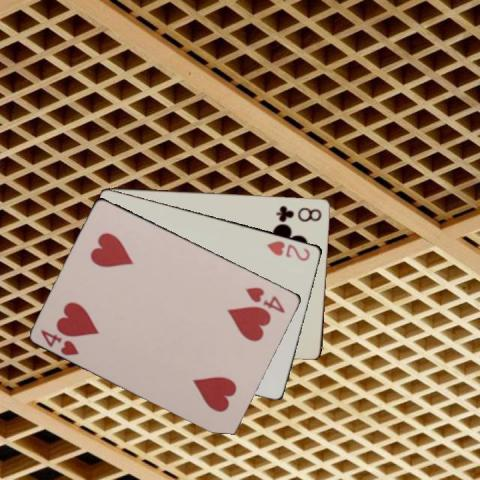2h: (264, 237, 312, 263)
4h: (243, 284, 287, 315), (37, 326, 81, 357)
8c: (273, 202, 324, 222)
